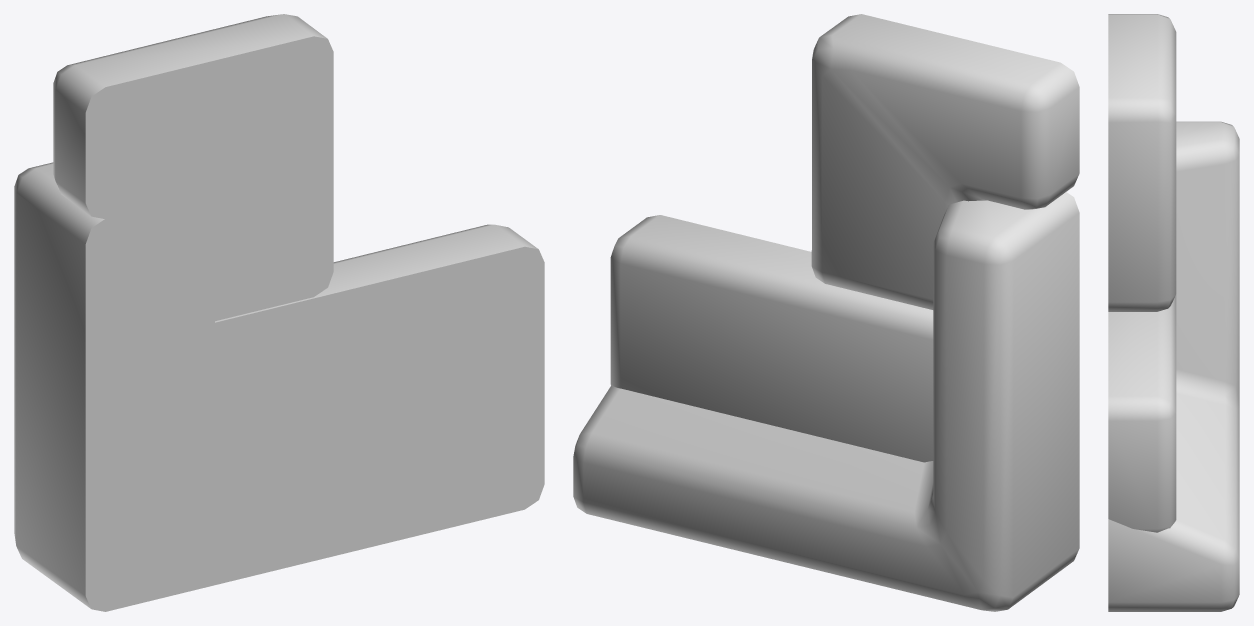
The model's file is sofa-l.glb.
The picture shows the model from 3 angles, left to right: view 1: azimuth 30°, elevation 25°; view 2: azimuth 150°, elevation 25°; view 3: azimuth 270°, elevation 25°; orthographic projection. The views are drawn at different scales.
Visible parts, largest first — view 1: sofa_034; view 2: sofa_034; view 3: sofa_034.
Boxes of the visible parts, bbox=[...] form: sofa_034: bbox=[14, 14, 544, 611]; sofa_034: bbox=[573, 14, 1079, 611]; sofa_034: bbox=[1108, 14, 1239, 611].
Size of the model in its own units: 2.43 by 2.66 by 0.7379.
Materials: 1 (1 with a texture image).
